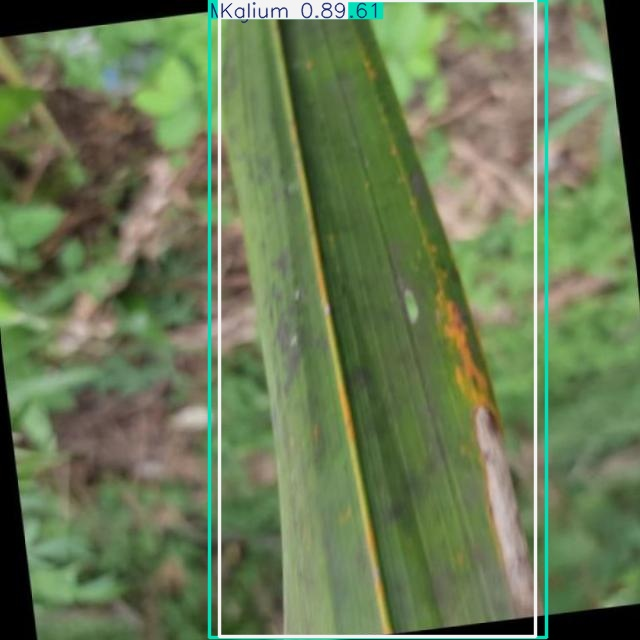Kalium: (219, 1, 536, 636)
Megnesium: (209, 0, 547, 637)
